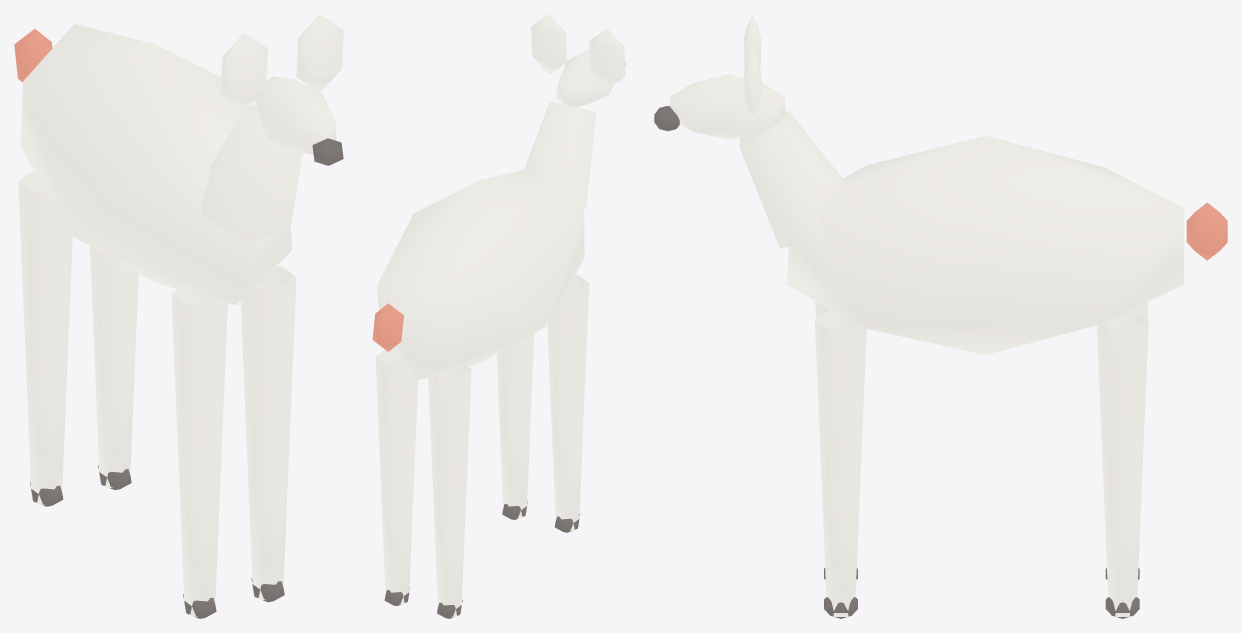
File: Blender_Deer_1.glb
3 views of the same model, side by side, from view 1: azimuth 30°, elevation 25°; view 2: azimuth 150°, elevation 25°; view 3: azimuth 270°, elevation 25° (orthographic). The views are drawn at different scales.
Visible parts, largest first — view 1: Blender_Deer_1; view 2: Blender_Deer_1; view 3: Blender_Deer_1.
Boxes of the visible parts, x1,y1,x2,y2 form: Blender_Deer_1: (14,14,343,618); Blender_Deer_1: (372,14,625,618); Blender_Deer_1: (654,14,1227,618).
Bounding box in the file's own units: 0.449 × 1.57 × 1.43.
